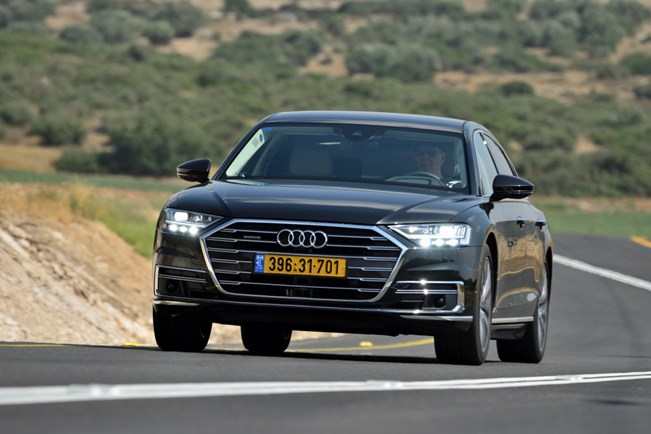licence: (251, 252, 347, 281)
